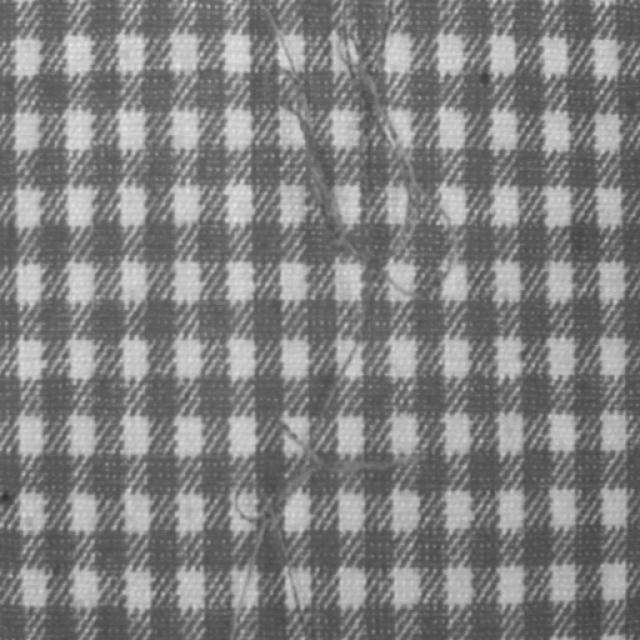Foreign-Body-Defect: (226, 424, 417, 639), (249, 0, 338, 222), (340, 50, 429, 244), (245, 432, 306, 515), (388, 279, 418, 300), (441, 290, 466, 302)
